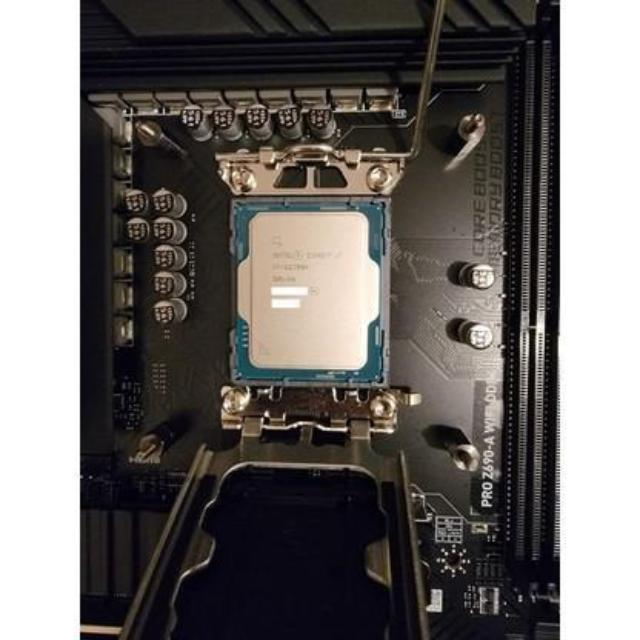CPU: (231, 200, 383, 386)
